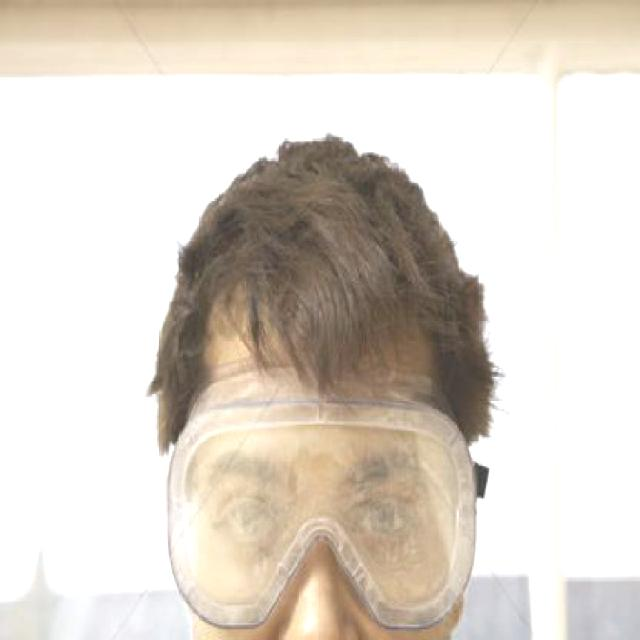glasses: (163, 366, 475, 629)
head_nohelmet: (150, 123, 502, 371)
